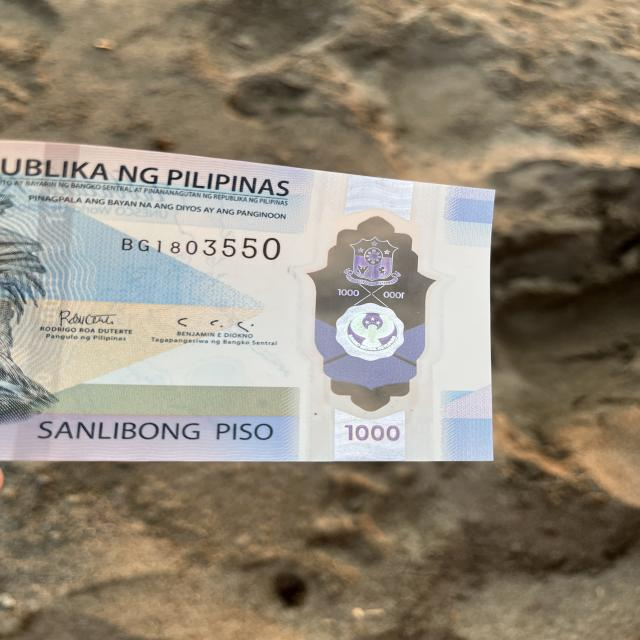clear_window: (287, 178, 444, 463)
